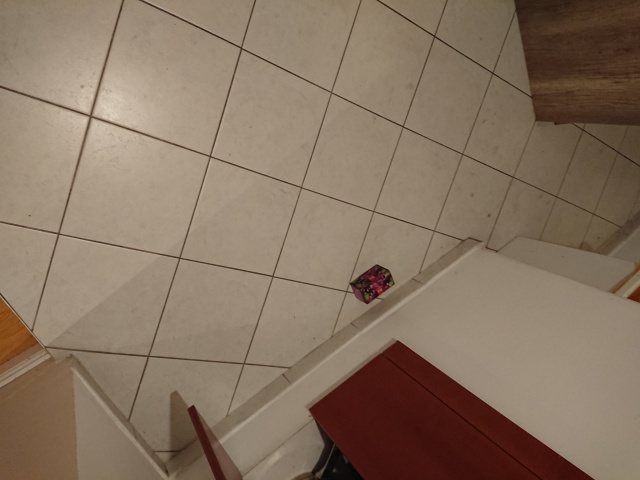Franck Black Currant Tea 60g: (347, 262, 397, 306)
